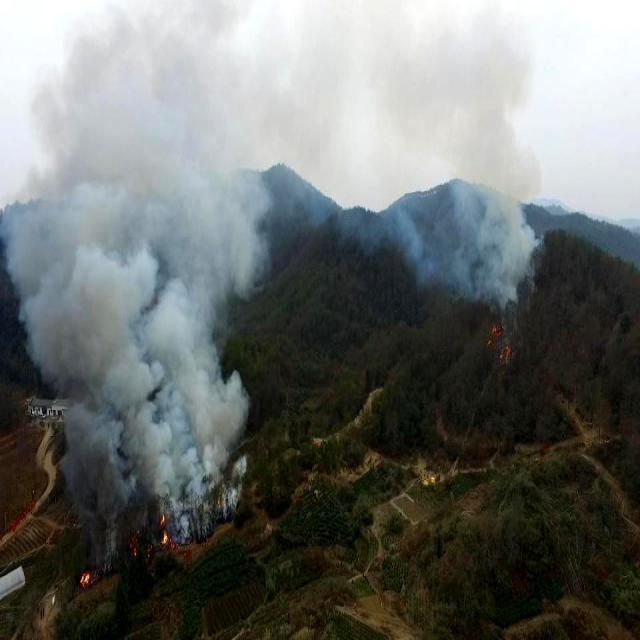Smoke: (0, 0, 259, 534), (397, 73, 540, 308)
